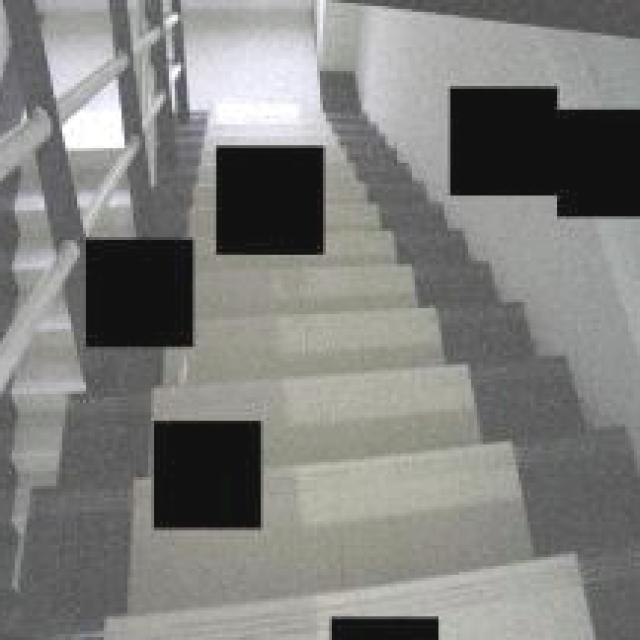downstair: (280, 292, 538, 594)
